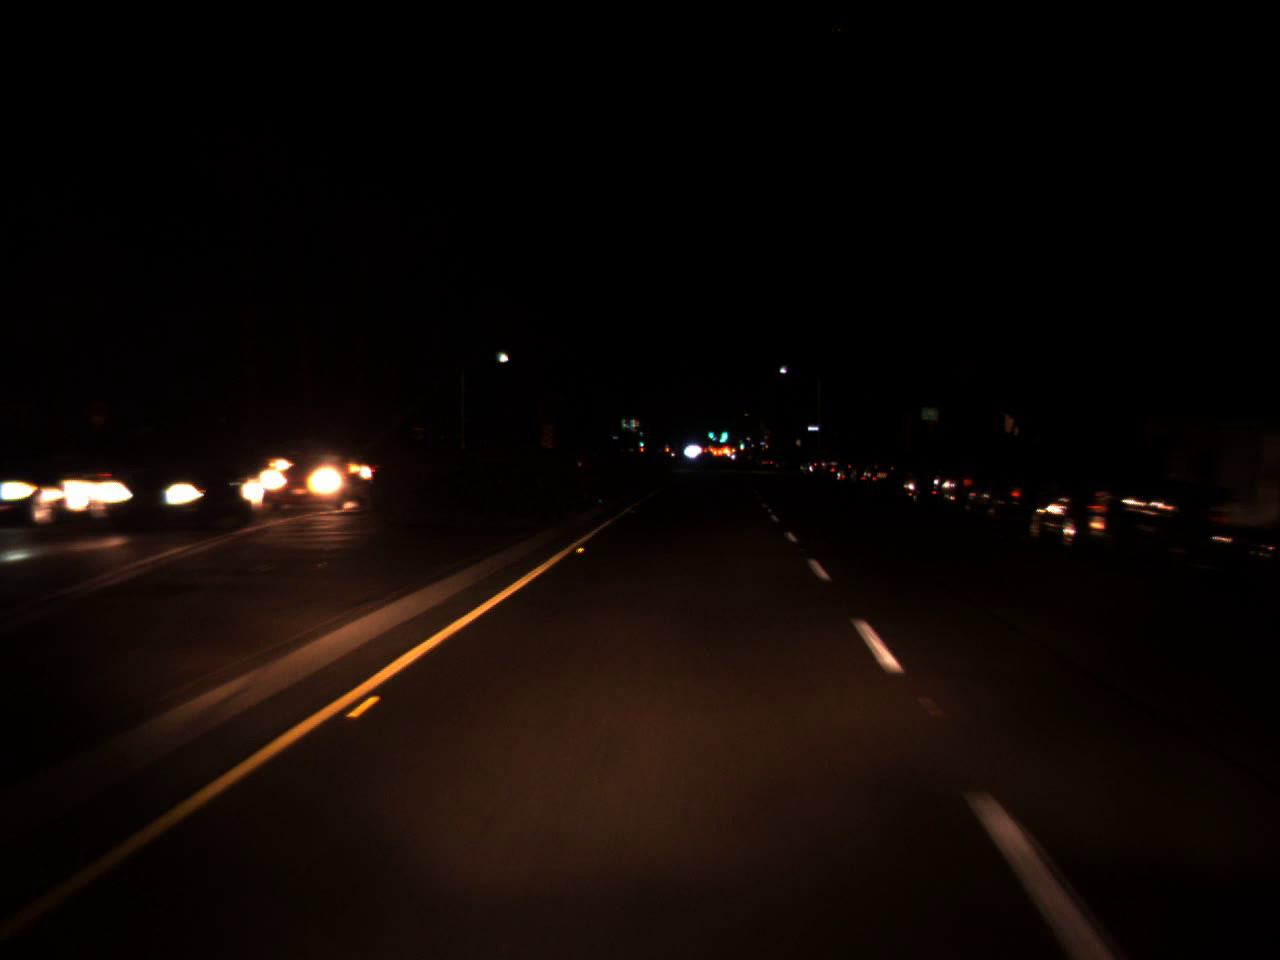go: (717, 423, 729, 441), (703, 419, 714, 441), (736, 434, 745, 449), (637, 433, 644, 448)
